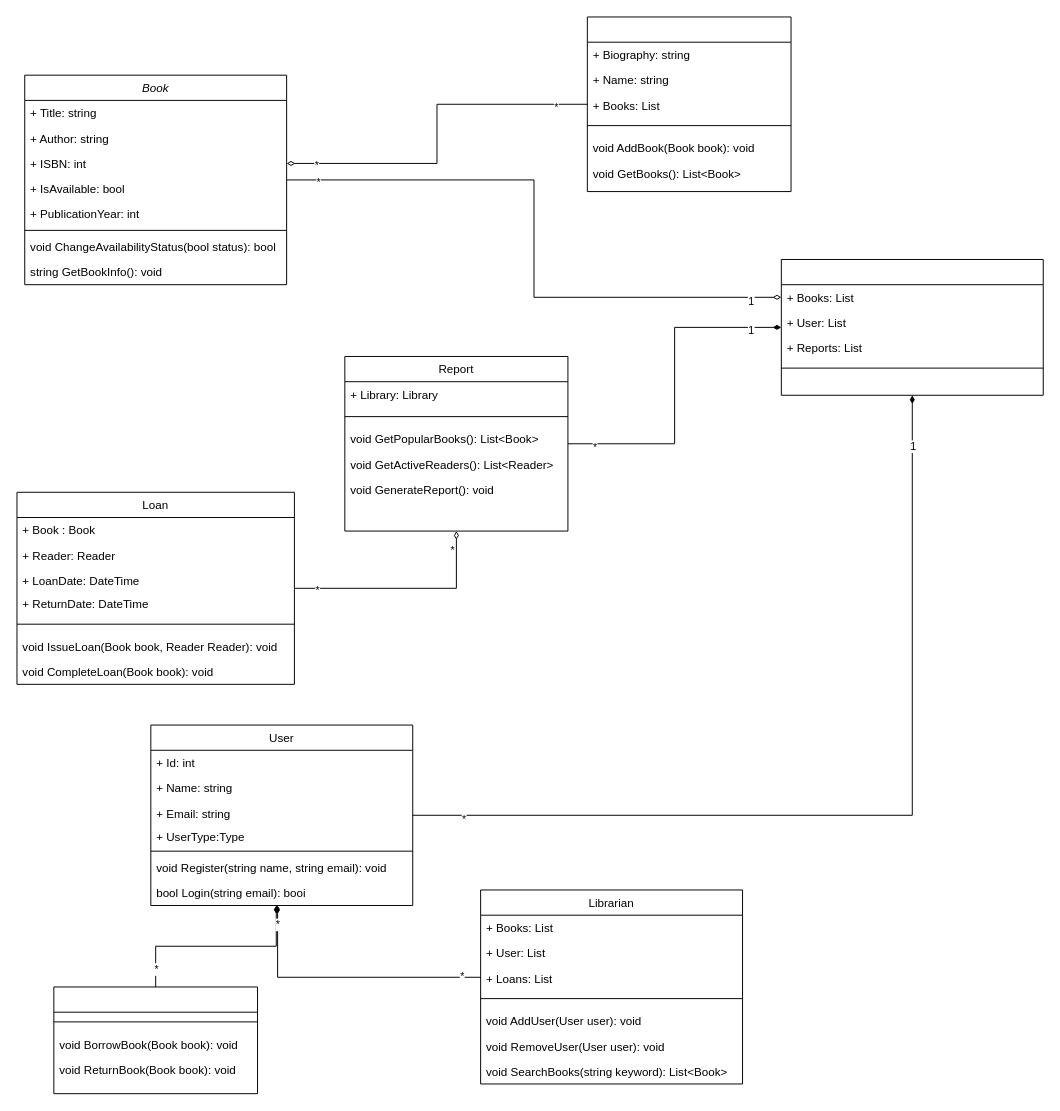
Some shapes in this 1060 by 1111 pixel diagram are drawn without their labels. The shapes that lost their labels are listed below. From the top down, each one's box as (x1, y1, x2, y2) in pixels, then its label:
(586, 16, 791, 192): Author
(780, 259, 1043, 395): Library
(53, 986, 258, 1094): Reader
